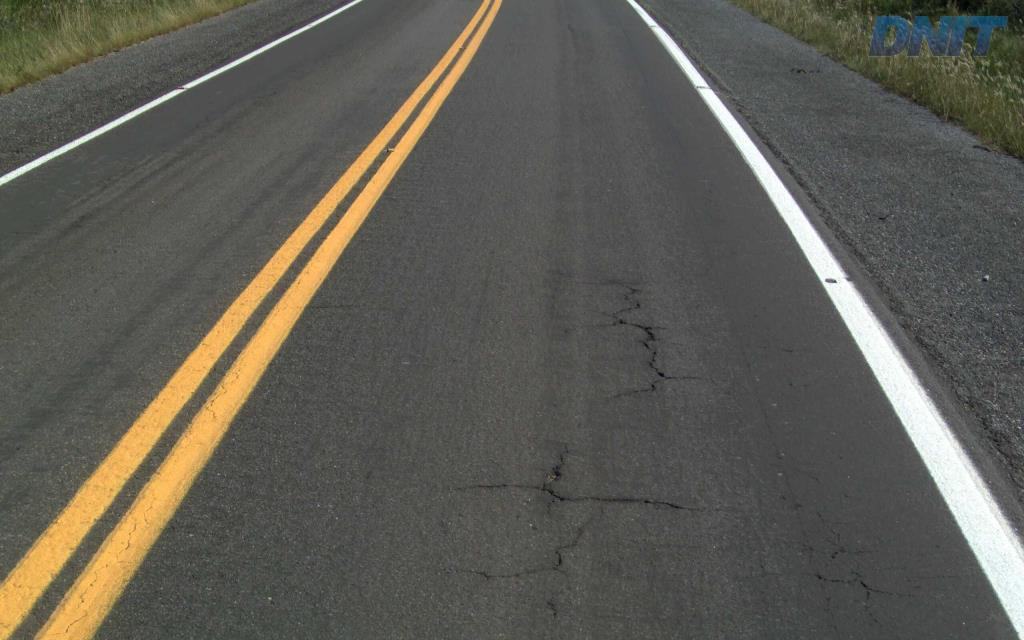crack: (590, 496, 685, 510)
